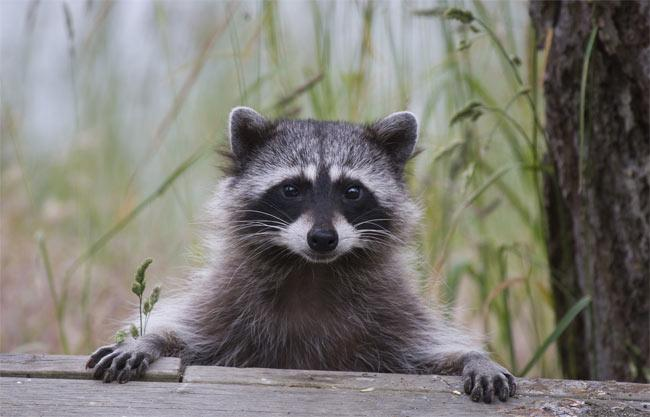raccoon: (82, 103, 520, 404)
